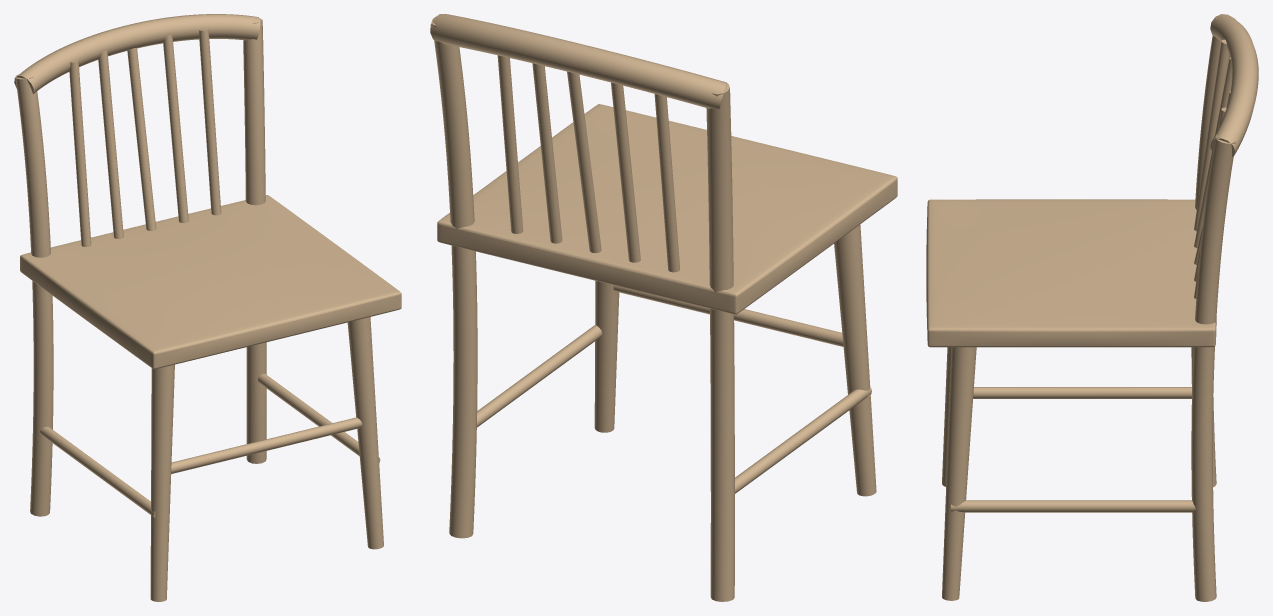
The model's file is dining_chair.glb.
3 renders of one model, left to right at view 1: azimuth 30°, elevation 25°; view 2: azimuth 150°, elevation 25°; view 3: azimuth 270°, elevation 25°, orthographic. The views are drawn at different scales.
Parts seen in each view (by area): view 1: Seat, BackPost_L, TopRail, BackPost_R, Leg_FL, Leg_FR, FrontStretcher, Spindle_3, Spindle_1, Spindle_4, Spindle_0, Spindle_2 (+2 smaller); view 2: Seat, BackPost_L, BackPost_R, TopRail, Leg_FL, Leg_FR, Spindle_2, Spindle_3, Spindle_1, Spindle_4, Spindle_0, SideStretcher_L (+2 smaller); view 3: Seat, BackPost_R, Leg_FR, TopRail, SideStretcher_R, SideStretcher_L, BackPost_L, Spindle_0, Spindle_1, Leg_FL.
Part boxes in pixels (x1=…): Seat: x1=20, y1=195, x2=401, y2=369; BackPost_L: x1=15, y1=74, x2=53, y2=516; TopRail: x1=14, y1=14, x2=260, y2=93; BackPost_R: x1=243, y1=18, x2=266, y2=463; Leg_FL: x1=150, y1=364, x2=174, y2=601; Leg_FR: x1=347, y1=317, x2=383, y2=549; FrontStretcher: x1=171, y1=417, x2=362, y2=473; Spindle_3: x1=163, y1=35, x2=188, y2=223; Spindle_1: x1=98, y1=50, x2=123, y2=238; Spindle_4: x1=199, y1=28, x2=221, y2=215; Spindle_0: x1=69, y1=60, x2=91, y2=246; Spindle_2: x1=127, y1=48, x2=156, y2=230; Seat: x1=437, y1=104, x2=897, y2=314; BackPost_L: x1=706, y1=81, x2=734, y2=601; BackPost_R: x1=431, y1=18, x2=477, y2=538; TopRail: x1=430, y1=14, x2=726, y2=109; Leg_FL: x1=834, y1=224, x2=876, y2=496; Leg_FR: x1=594, y1=281, x2=619, y2=432; Spindle_2: x1=567, y1=71, x2=601, y2=252; Spindle_3: x1=532, y1=63, x2=562, y2=243; Spindle_1: x1=611, y1=82, x2=640, y2=262; Spindle_4: x1=497, y1=55, x2=523, y2=233; Spindle_0: x1=654, y1=94, x2=679, y2=272; SideStretcher_L: x1=735, y1=387, x2=871, y2=493; Seat: x1=926, y1=199, x2=1216, y2=347; BackPost_R: x1=1191, y1=135, x2=1236, y2=601; Leg_FR: x1=942, y1=347, x2=976, y2=600; TopRail: x1=1210, y1=14, x2=1258, y2=157; SideStretcher_R: x1=951, y1=500, x2=1195, y2=512; SideStretcher_L: x1=973, y1=387, x2=1191, y2=398; BackPost_L: x1=1191, y1=17, x2=1235, y2=487; Spindle_0: x1=1194, y1=39, x2=1229, y2=231; Spindle_1: x1=1194, y1=57, x2=1231, y2=248; Leg_FL: x1=942, y1=347, x2=951, y2=486.
Size of the model in its own units: 0.4638 by 0.7883 by 0.4956.
